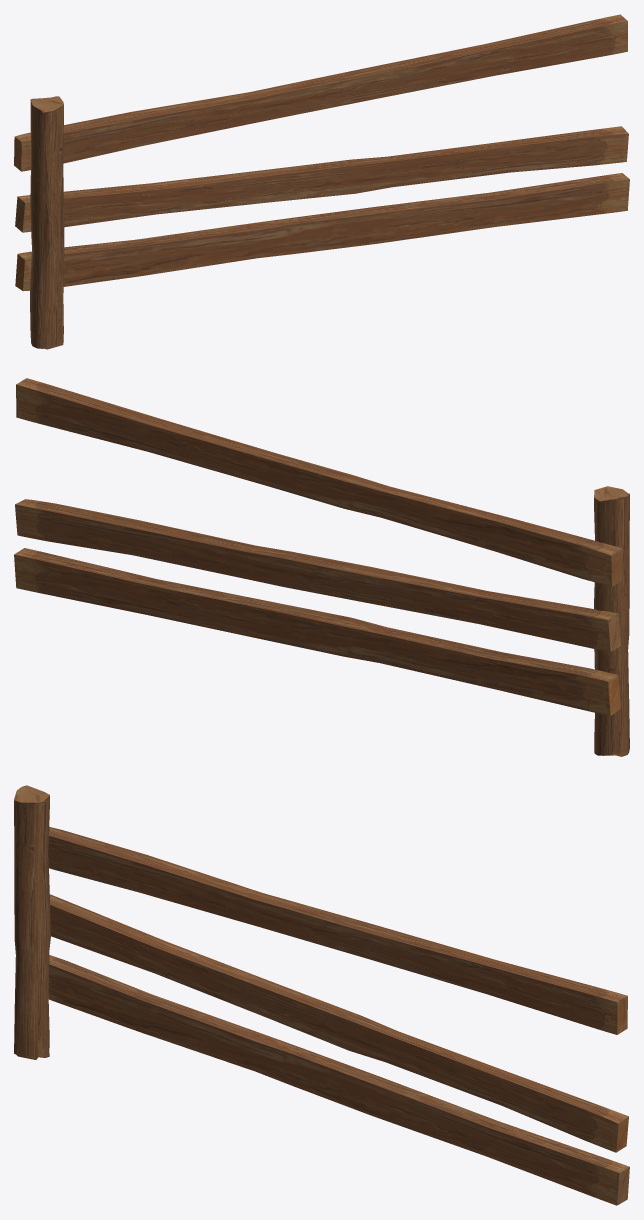
File: SM_Farm_Fence_03.fbx
3 renders of one model, top to bottom at view 1: azimuth 30°, elevation 25°; view 2: azimuth 150°, elevation 25°; view 3: azimuth 330°, elevation 25°, orthographic. The views are drawn at different scales.
Parts seen in each view (by area): view 1: SM_Farm_Fence_03_LOD0; view 2: SM_Farm_Fence_03_LOD0; view 3: SM_Farm_Fence_03_LOD0.
Part boxes in pixels (x1,y1,x2,y2): SM_Farm_Fence_03_LOD0: [14, 14, 629, 349]; SM_Farm_Fence_03_LOD0: [14, 378, 629, 756]; SM_Farm_Fence_03_LOD0: [14, 785, 629, 1205].
Size of what is drawn, in the model's own units: 293 by 118 by 29.97.
